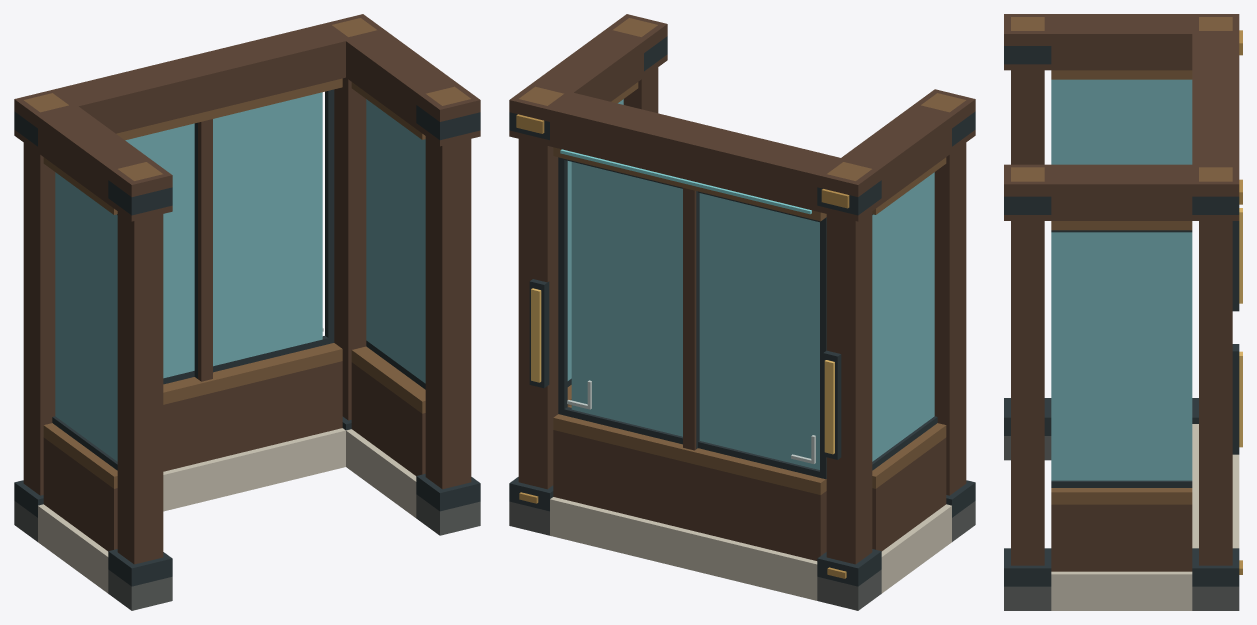
The picture shows the model from 3 angles, left to right: view 1: azimuth 30°, elevation 25°; view 2: azimuth 150°, elevation 25°; view 3: azimuth 270°, elevation 25°; orthographic projection.
Parts seen in each view (by area): view 1: 旧楼三面窗玻璃与框; view 2: 旧楼三面窗玻璃与框; view 3: 旧楼三面窗玻璃与框.
Part boxes in pixels (x1=…): 旧楼三面窗玻璃与框: x1=14, y1=14, x2=480, y2=610; 旧楼三面窗玻璃与框: x1=509, y1=14, x2=975, y2=610; 旧楼三面窗玻璃与框: x1=1004, y1=14, x2=1242, y2=610.
Bounding box in the file's own units: 2.4 × 2.8 × 1.42.
10 materials, 10 textured.
